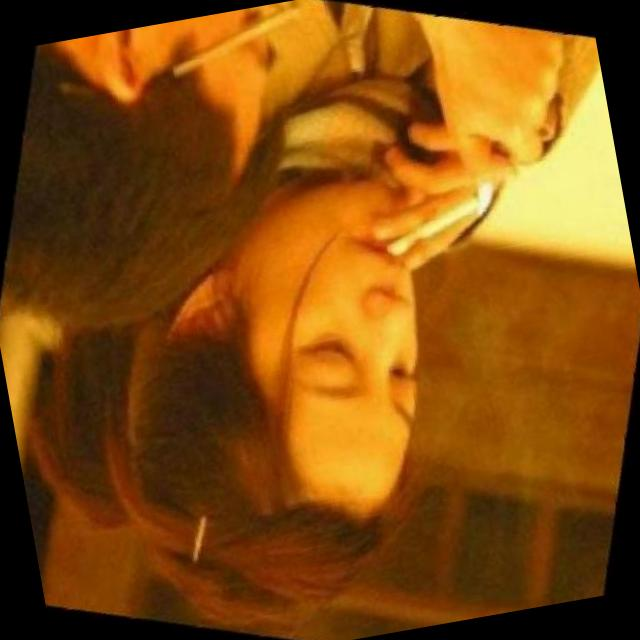cigarette: (372, 162, 497, 278)
